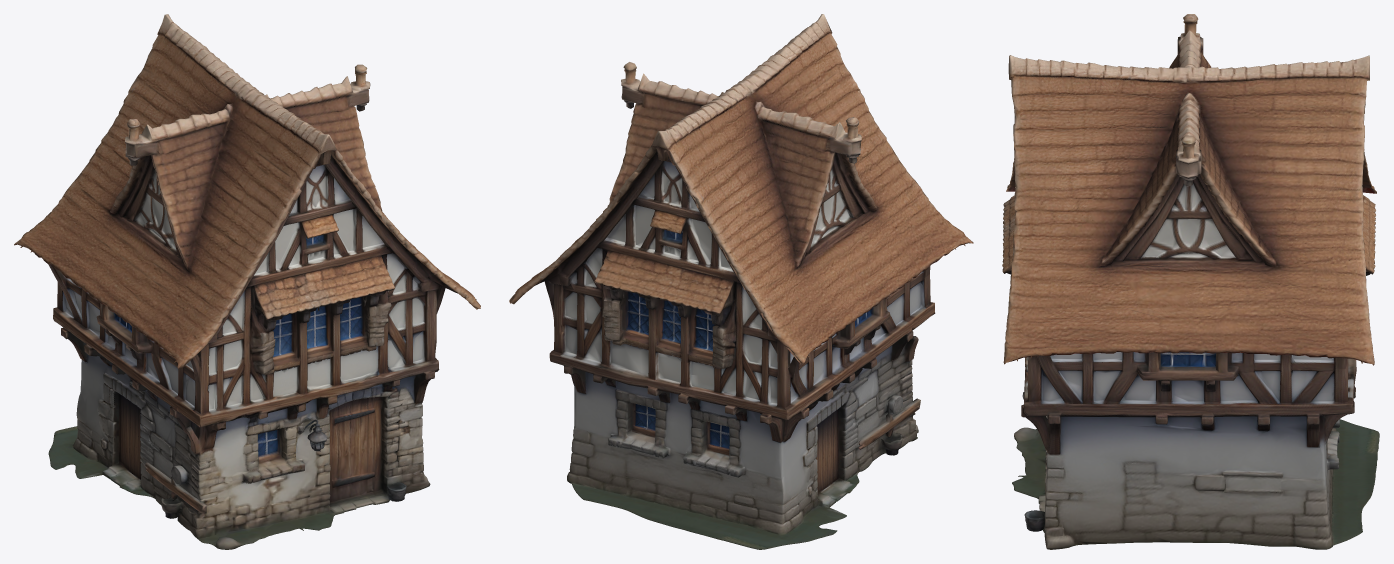
The model's file is medieval_tudor_cottage.glb.
The picture shows the model from 3 angles, left to right: view 1: azimuth 30°, elevation 25°; view 2: azimuth 150°, elevation 25°; view 3: azimuth 270°, elevation 25°; orthographic projection. The views are drawn at different scales.
Visible parts, largest first — view 1: tripo_node_5262082c-257c-4962-8d13-bf9284467f3f_0; view 2: tripo_node_5262082c-257c-4962-8d13-bf9284467f3f_0; view 3: tripo_node_5262082c-257c-4962-8d13-bf9284467f3f_0.
Boxes of the visible parts, <box> form: tripo_node_5262082c-257c-4962-8d13-bf9284467f3f_0: <box>14,14,480,549</box>; tripo_node_5262082c-257c-4962-8d13-bf9284467f3f_0: <box>509,14,973,549</box>; tripo_node_5262082c-257c-4962-8d13-bf9284467f3f_0: <box>1002,14,1379,549</box>.
Bounding box in the file's own units: 0.7901 × 0.9786 × 0.7714.
1 material, 1 textured.
